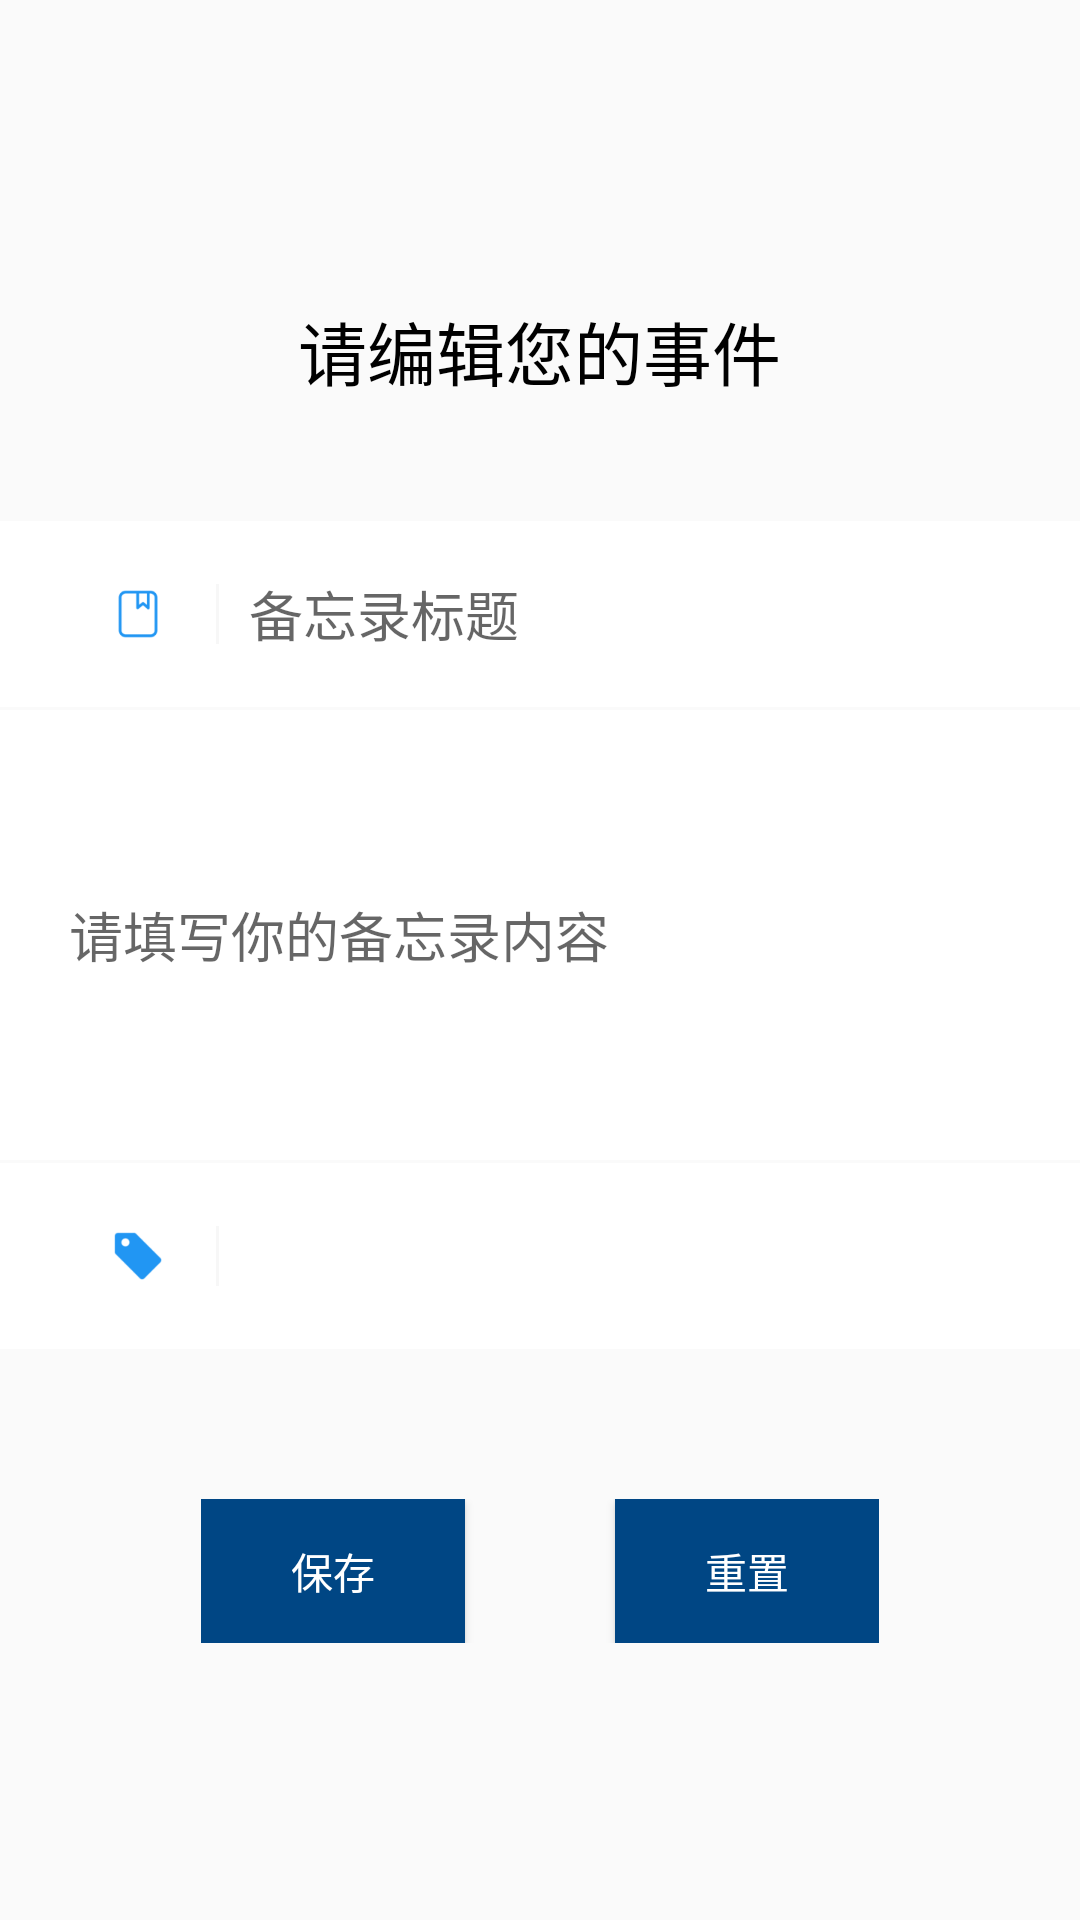

Icons on this 1080*1920 Android screen, each with the point to tap as [x,y]:
edit kind: [138,1256]
edit title: [138,614]
